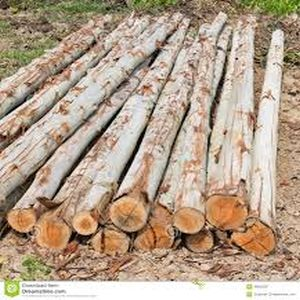log: (232, 216, 283, 261), (201, 189, 250, 235), (108, 193, 150, 233), (34, 212, 69, 254), (88, 225, 131, 258), (135, 224, 179, 252), (172, 205, 205, 239), (8, 204, 38, 238), (69, 208, 99, 239), (182, 232, 216, 254)
